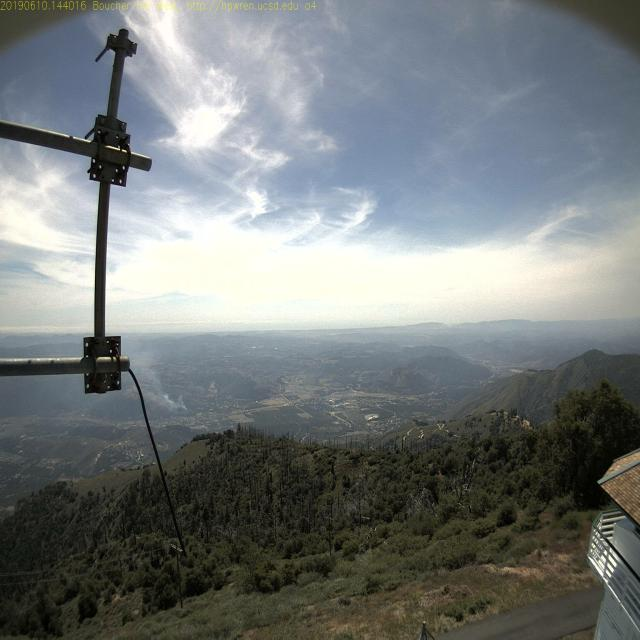smoke: (170, 388, 193, 418)
